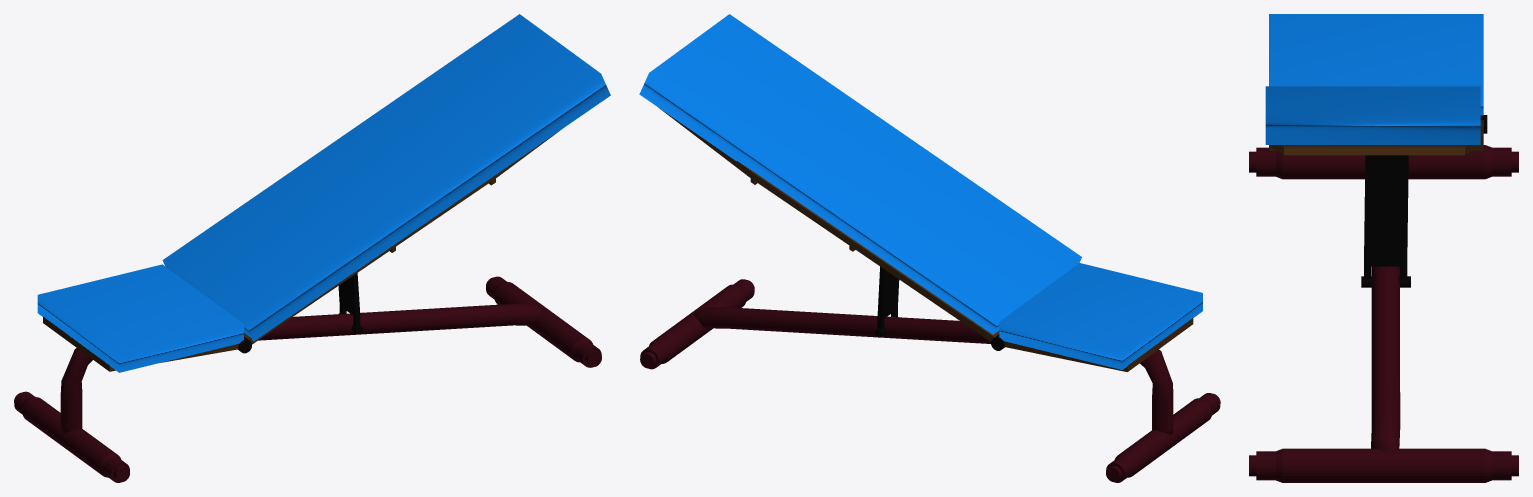
Rendered from bench.glb.
The picture shows the model from 3 angles, left to right: view 1: azimuth 30°, elevation 25°; view 2: azimuth 150°, elevation 25°; view 3: azimuth 270°, elevation 25°; orthographic projection. The views are drawn at different scales.
Visible parts, largest first — view 1: Cube.004, Cube.003, Cylinder.001, Base1, Base1.001, Cube.002, Cube.001, Cube; view 2: Cube.004, Cube.003, Cylinder.001, Base1, Base1.001, Cube.002, Cube.001, Cube; view 3: Cube.003, Cube.004, Base1.001, Base1, Cylinder.001, Cube.001, Cube.002.
Part boxes in pixels (left/top/right/bottom): Cube.004: left=162, top=14, right=610, bottom=341; Cube.003: left=37, top=264, right=243, bottom=372; Cylinder.001: left=60, top=304, right=544, bottom=433; Base1: left=14, top=391, right=129, bottom=482; Base1.001: left=486, top=276, right=601, bottom=367; Cube.002: left=244, top=131, right=558, bottom=344; Cube.001: left=338, top=273, right=360, bottom=326; Cube: left=43, top=316, right=238, bottom=371; Cube.004: left=639, top=14, right=1081, bottom=334; Cube.003: left=999, top=263, right=1202, bottom=369; Cylinder.001: left=693, top=307, right=1173, bottom=434; Base1: left=1106, top=393, right=1220, bottom=482; Base1.001: left=640, top=279, right=754, bottom=369; Cube.002: left=659, top=108, right=999, bottom=341; Cube.001: left=877, top=266, right=899, bottom=329; Cube: left=1003, top=318, right=1193, bottom=371; Cube.003: left=1269, top=14, right=1483, bottom=115; Cube.004: left=1265, top=86, right=1480, bottom=144; Base1.001: left=1249, top=448, right=1518, bottom=482; Base1: left=1249, top=145, right=1518, bottom=179; Cylinder.001: left=1371, top=266, right=1400, bottom=451; Cube.001: left=1364, top=155, right=1408, bottom=279; Cube.002: left=1269, top=120, right=1483, bottom=155.
Bounding box in the file's own units: 13.65 × 7.49 × 4.78.
